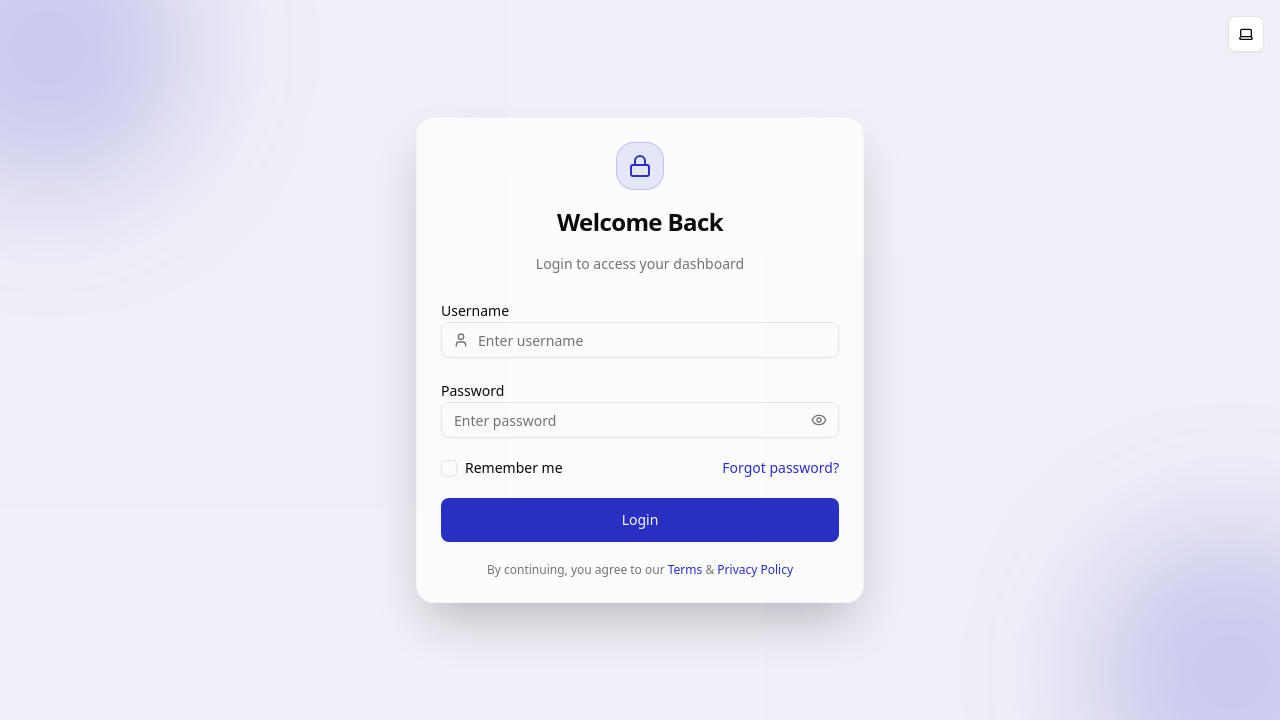
Test: LoginPage Component › should show API error if login fails
Step 1. Type "wronguser" into the field with placeholder "Enter username" → [640, 340], box [441,322,839,358]
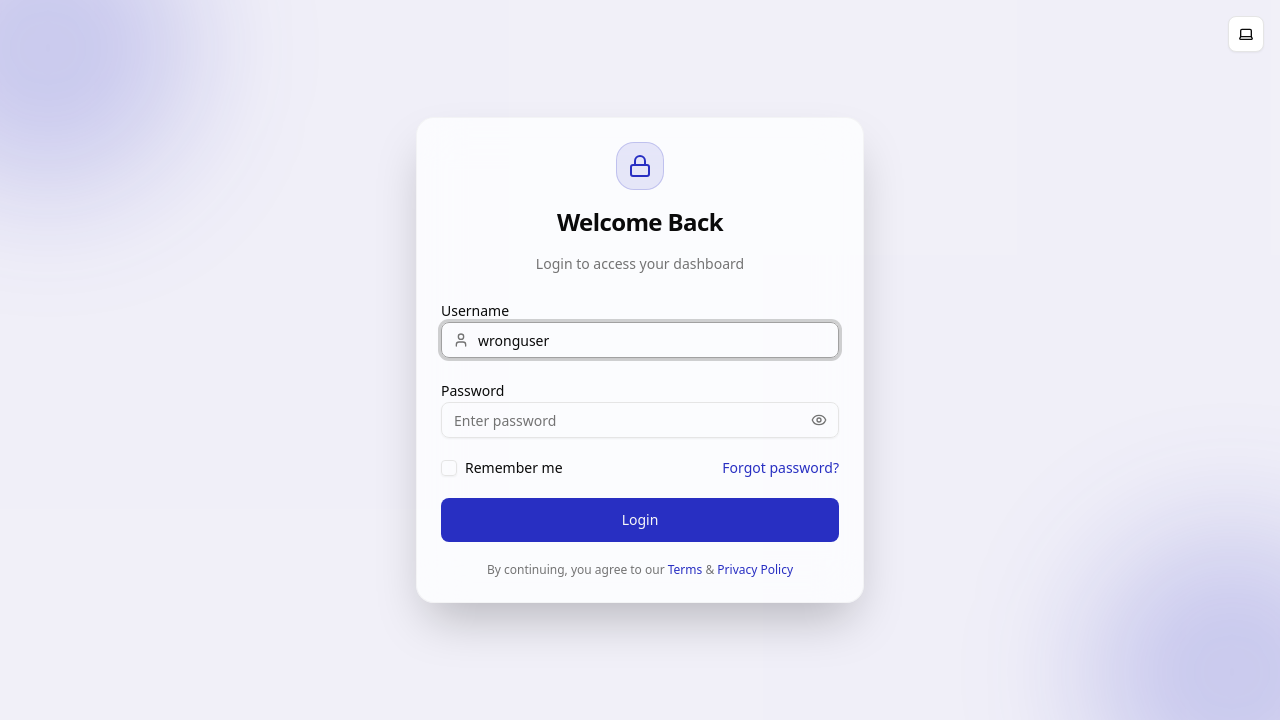
Step 2. Type "123456" into the password field with placeholder "Enter password" → [640, 420], box [441,402,839,438]
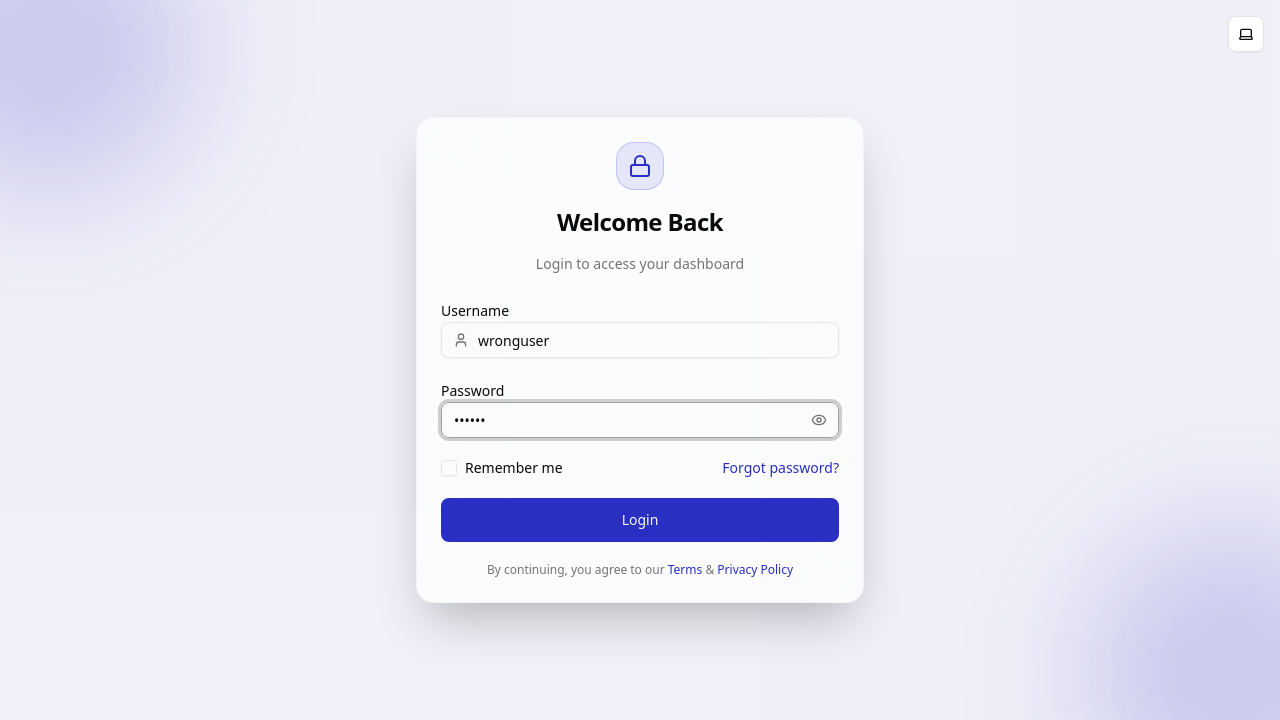
Step 3. Click the button "Login" → [640, 520], box [441,498,839,542]
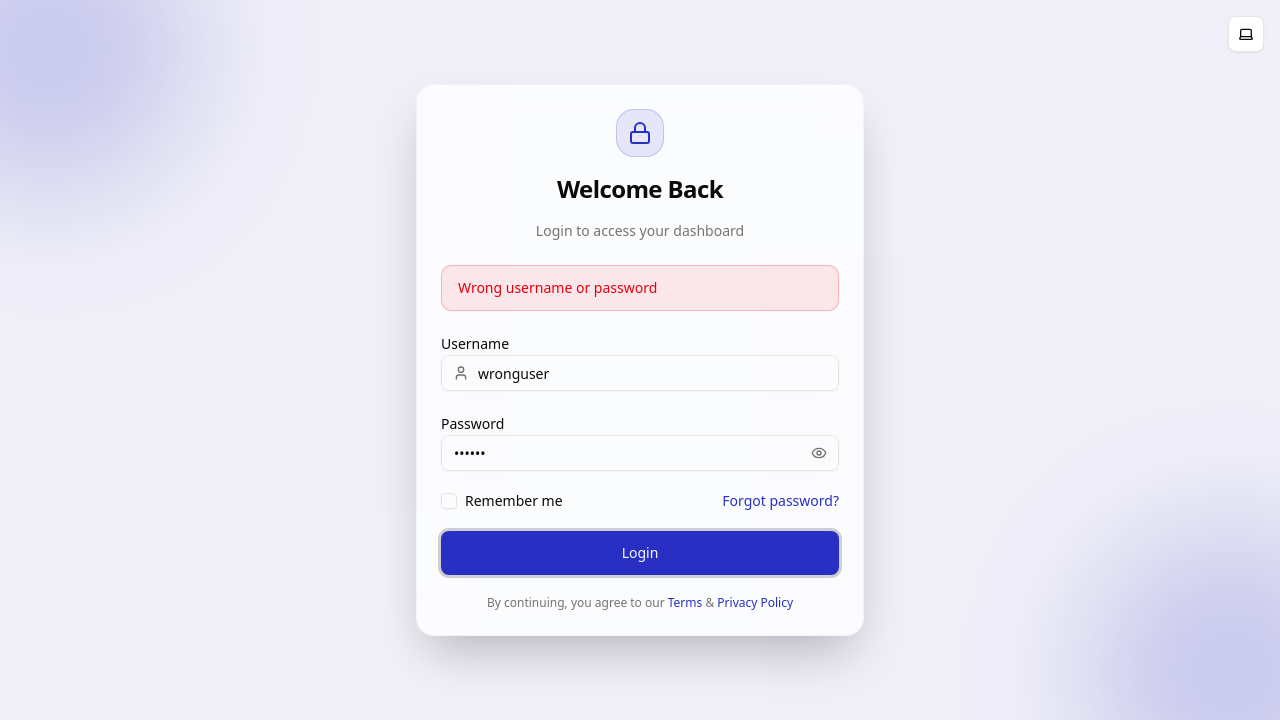
Expected: the text "Wrong username or password" is shown, [441,265,839,311]
